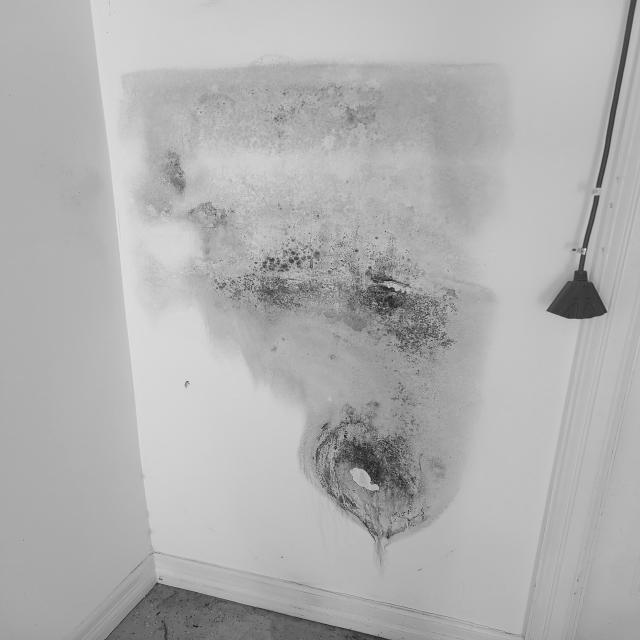stain marks: (102, 50, 529, 571)
